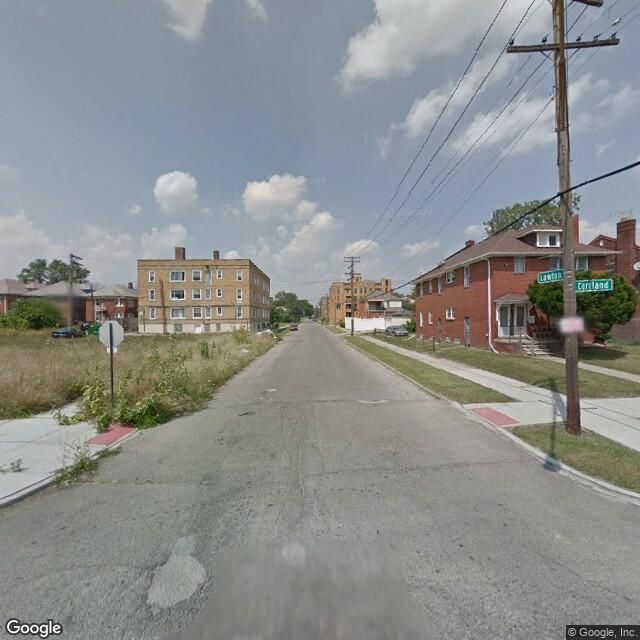litter: (74, 465, 90, 473), (203, 378, 214, 383)
